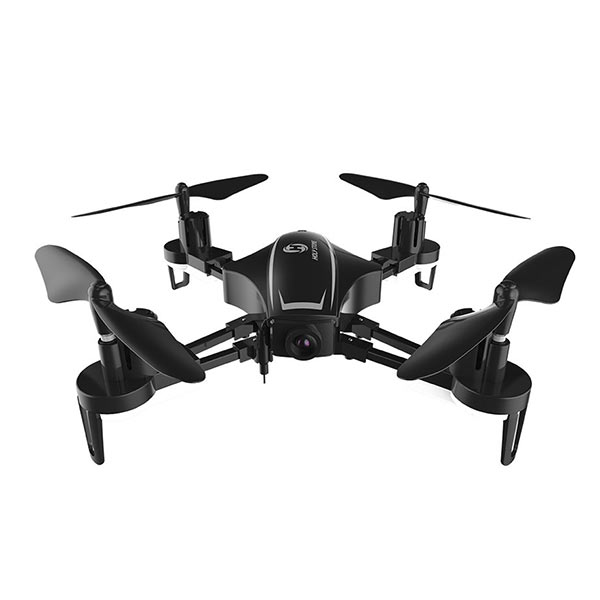drone: (28, 166, 583, 471)
